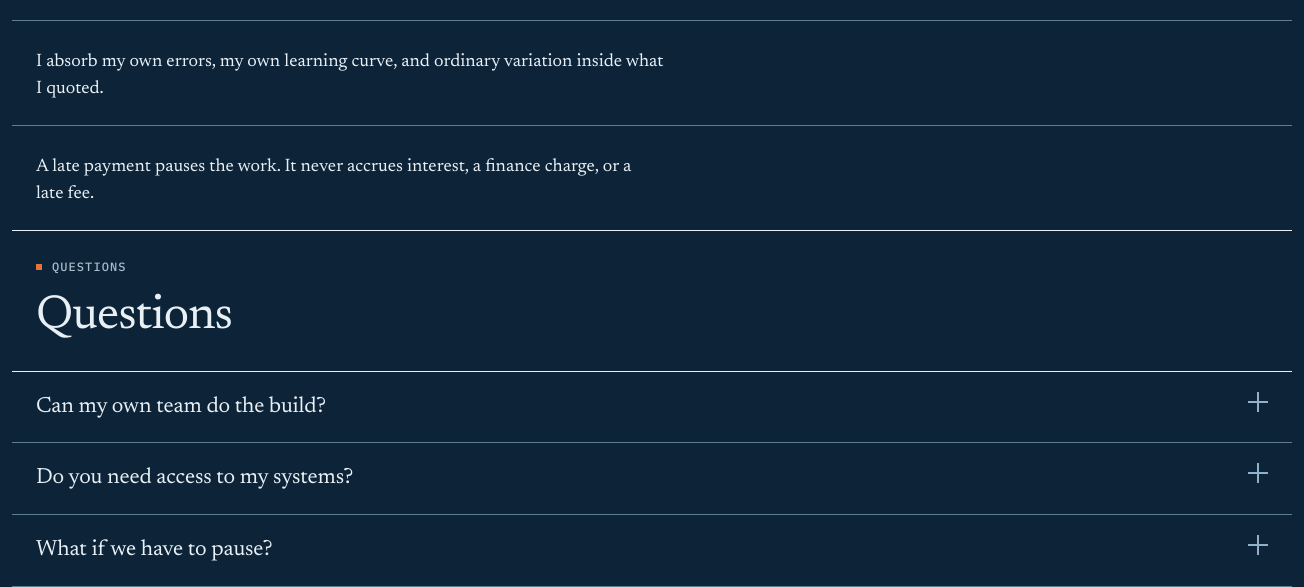
Engagements FAQ: can my own team do the build? › opens to the full answer
(page scrolled)
Click the button "Can my own team do the build?" at (181, 407), box [12,372,1292,442]
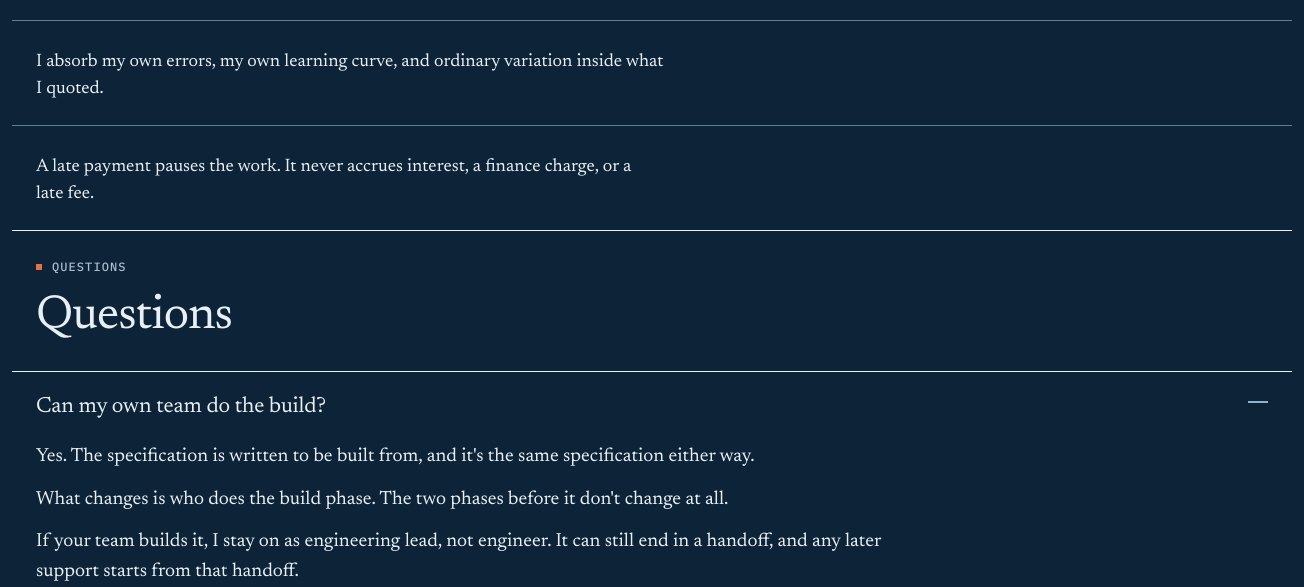
Expected: the text "Yes. The specification is written to be built from, and it's the same specification either way." is shown, [36,447,755,466]
